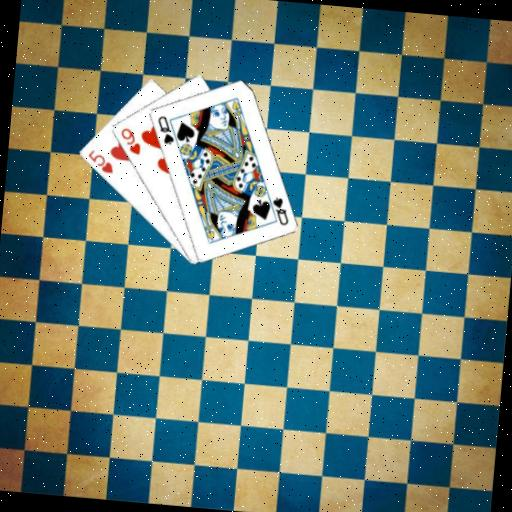5H: (83, 146, 116, 175)
9H: (116, 124, 144, 157)
QS: (152, 113, 177, 147), (267, 194, 292, 228)
